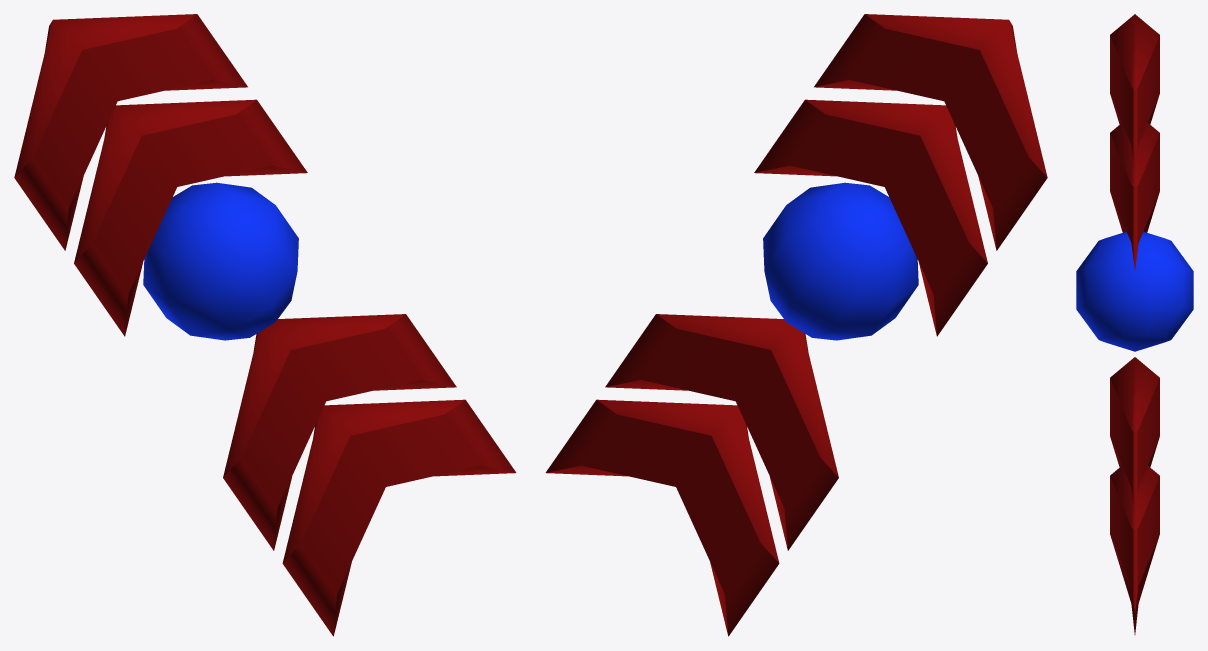
The model's file is powerUp_bulletSpeed.FBX.
3 views of the same model, side by side, from view 1: azimuth 30°, elevation 25°; view 2: azimuth 150°, elevation 25°; view 3: azimuth 270°, elevation 25° (orthographic). The views are drawn at different scales.
Visible parts, largest first — view 1: bullets; view 2: bullets; view 3: bullets.
Boxes of the visible parts, bbox=[...] form: bullets: bbox=[14, 14, 516, 636]; bullets: bbox=[545, 14, 1047, 636]; bullets: bbox=[1076, 14, 1193, 634].
Size of the model in its own units: 10.5 by 13.69 by 2.81.
